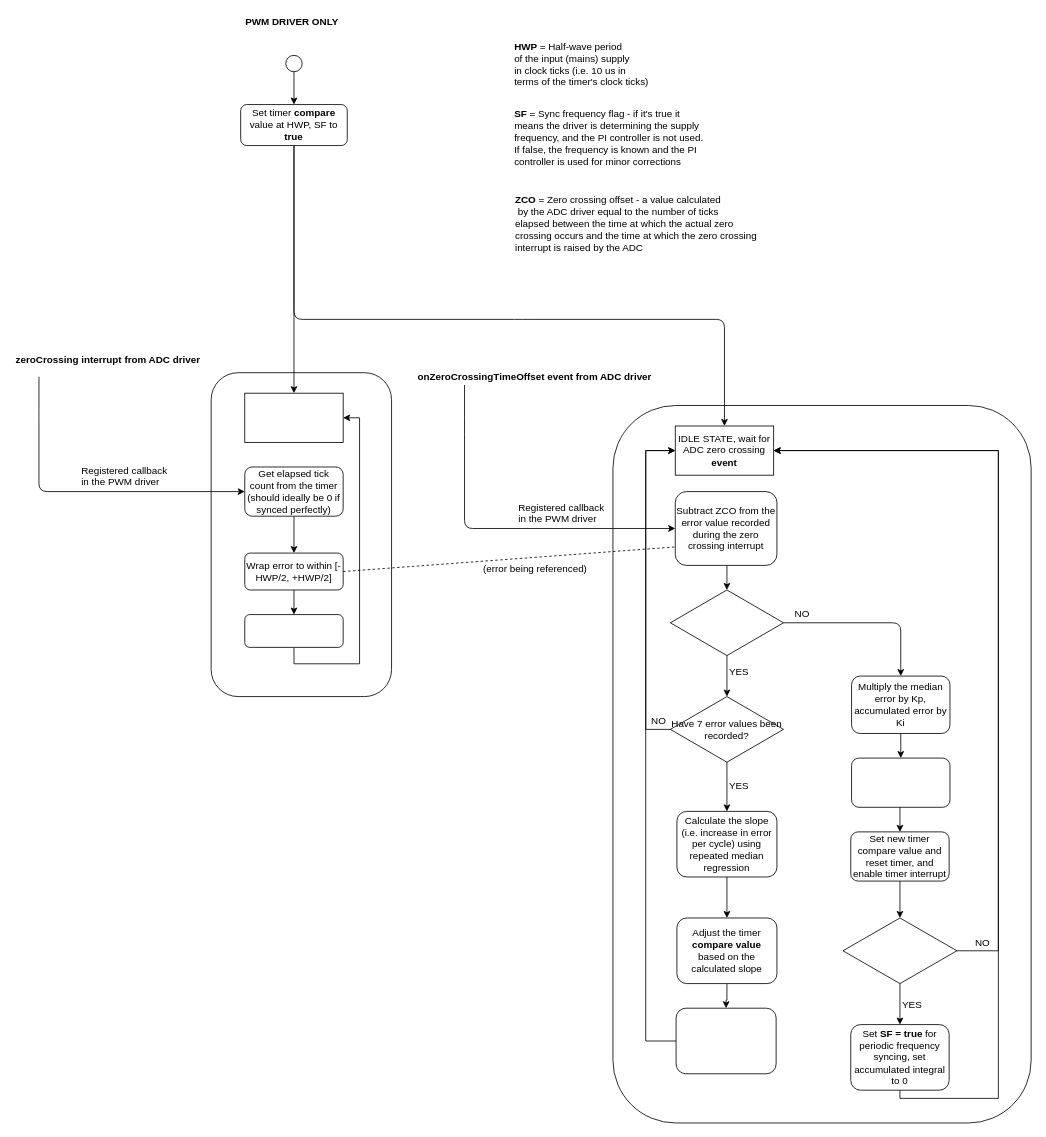
The diagram is 1046 pixels wide and 1137 high, and some of its shapes have lost their labels. The shapes that lost their labels are listed below. From the top down, each one's centre as x and y in pixels, then its label:
At (293,417): "IDLE STATE, wait for ADC zero crossing interrupt".
At (293,630): "Accumulate error".
At (727,622): "Is SF true?".
At (900,782): "Add this calculated value to the timer compare value as a correction".
At (899,950): "Have 100 iterations passed?".
At (725,1040): "Since frequency is now synced, set SF = false".
